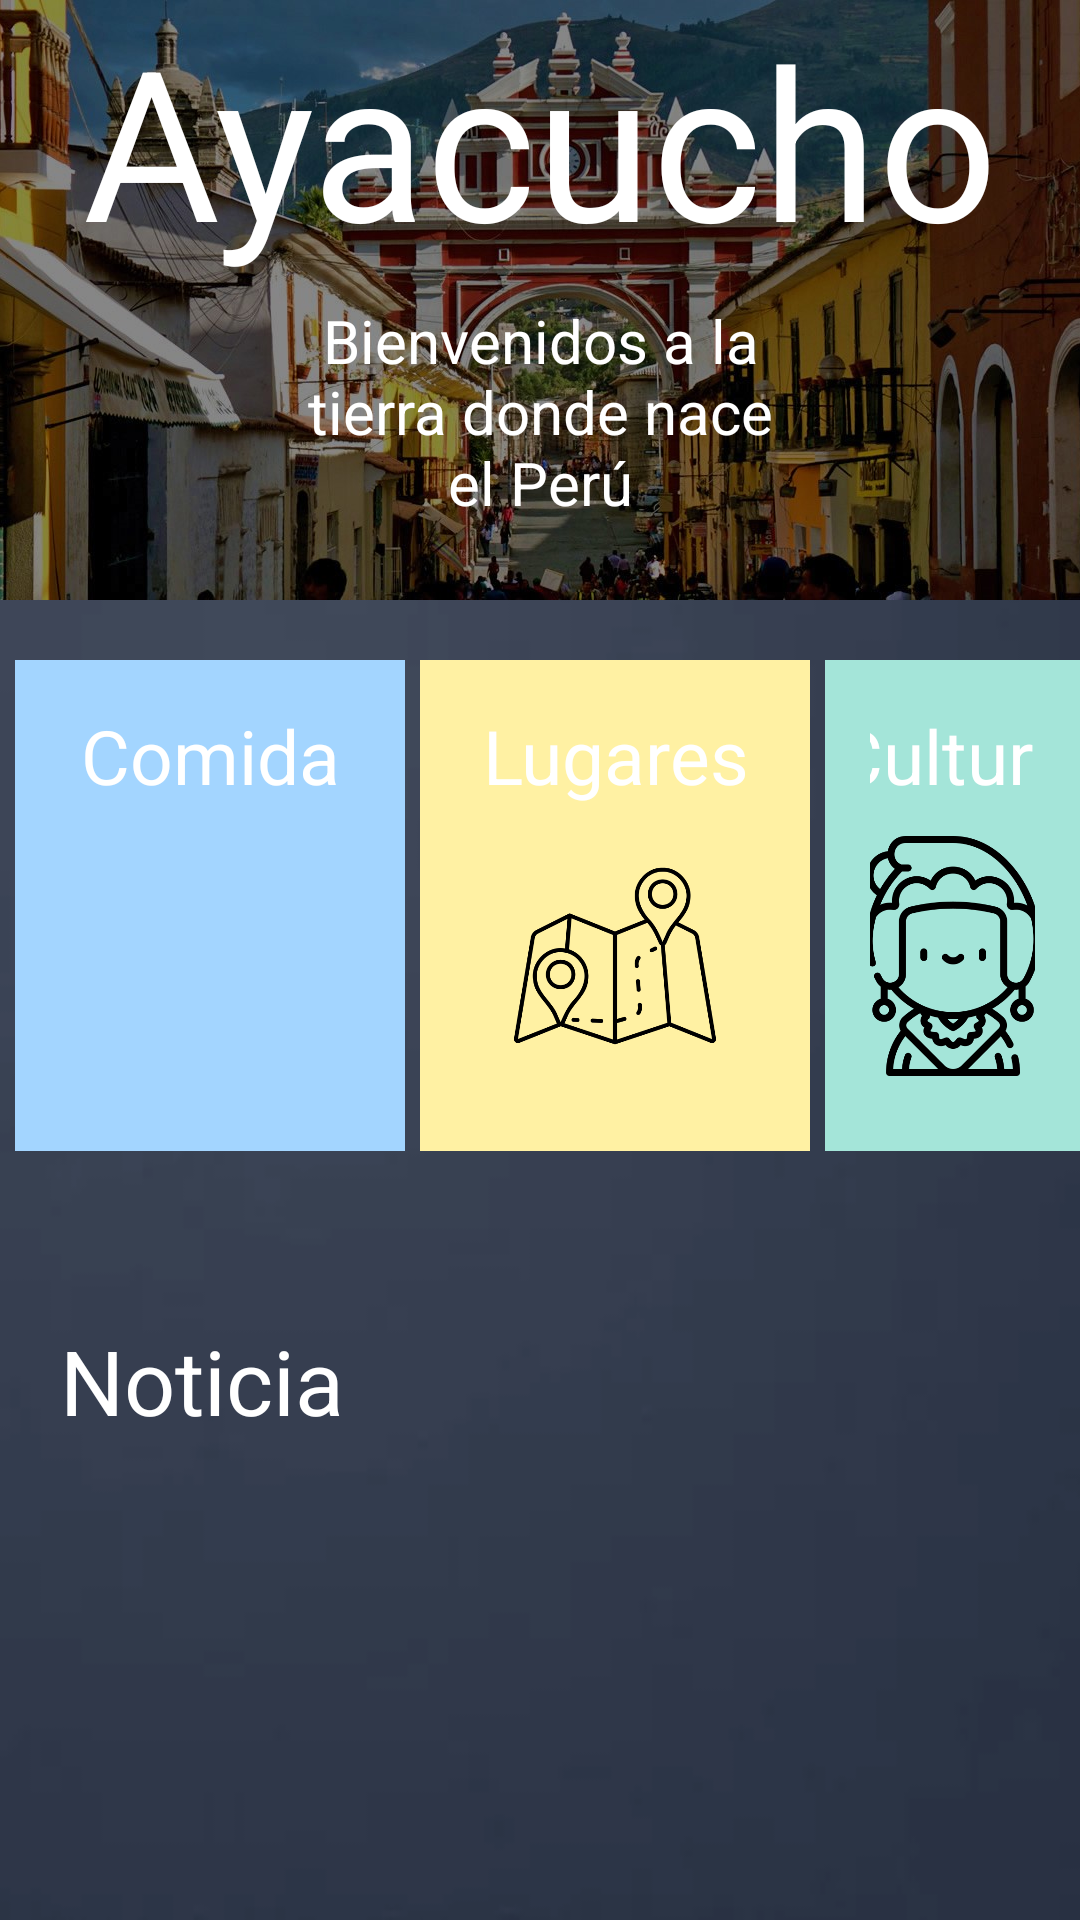

Screen size 1080x1920. Icon name, then its center in pixels as (x,y):
mapa: (615,956)
peruano: (952,956)
